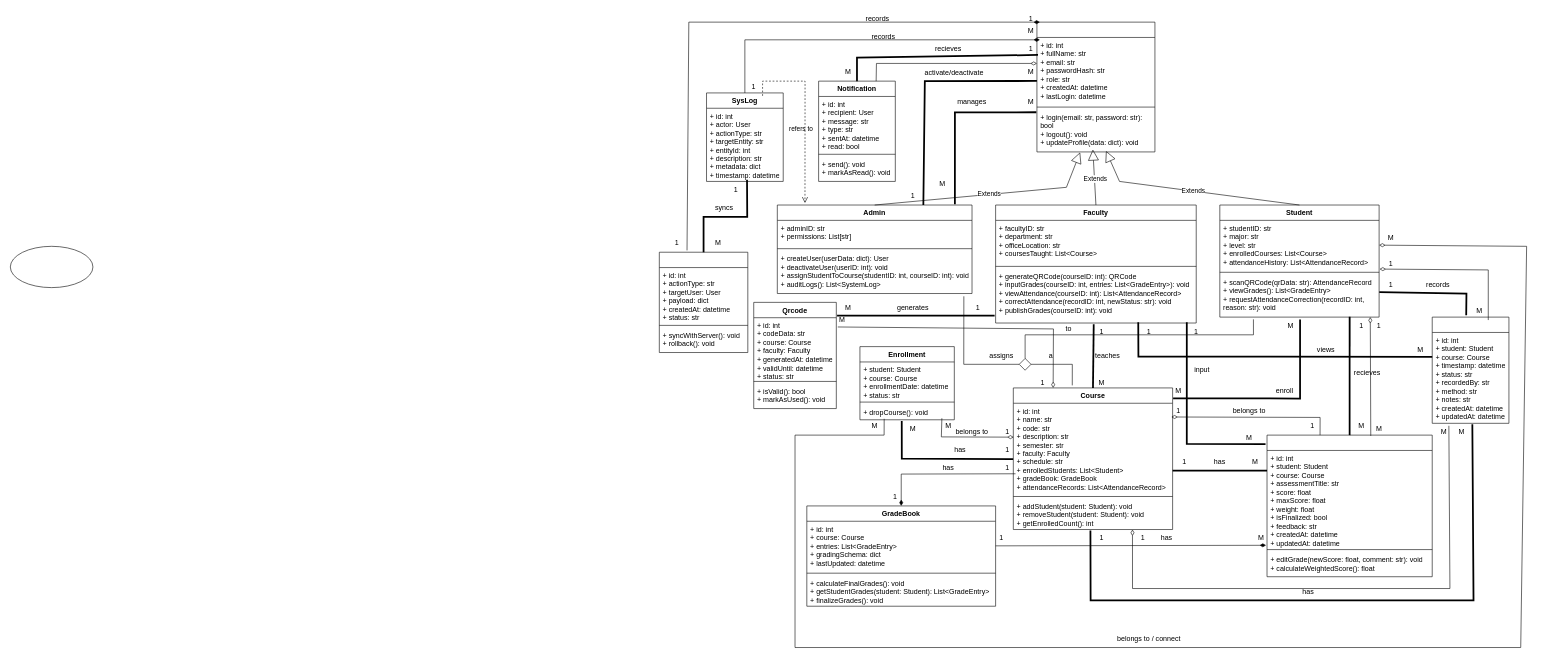
Image size: 1543x664. Some labels were removed from this diagram. Each missing label, with the box of its shape:
AttendanceRecord: (1432, 317, 1509, 423)
GradeEntry: (1266, 435, 1432, 577)
LocalBackup: (659, 252, 748, 353)
Use Case: (10, 246, 93, 288)
User {abstract}: (1036, 22, 1155, 152)
